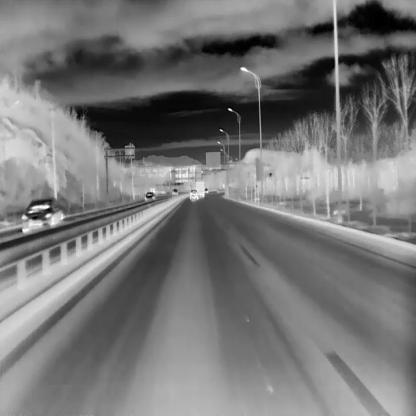car: (20, 198, 66, 233), (144, 191, 154, 200), (189, 189, 198, 199), (172, 188, 178, 193), (204, 187, 208, 192)
truck: (195, 181, 204, 197)
